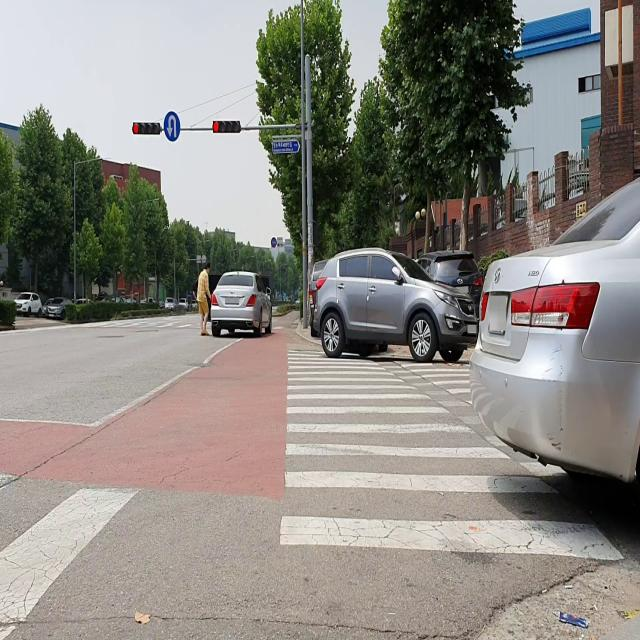횡단보도: (276, 346, 626, 566), (0, 483, 143, 640), (80, 316, 199, 333)
